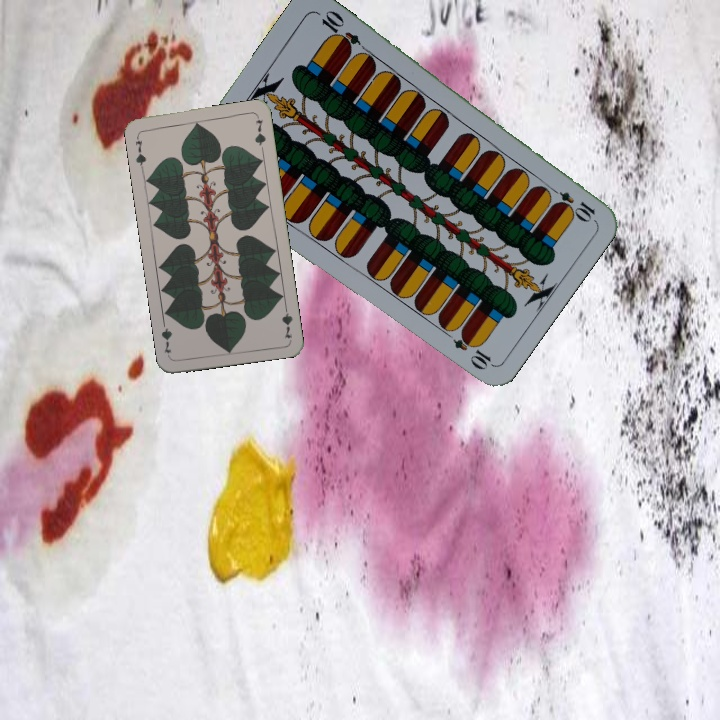E10: (543, 182, 598, 223)
G7: (278, 300, 295, 341), (131, 131, 148, 172)
